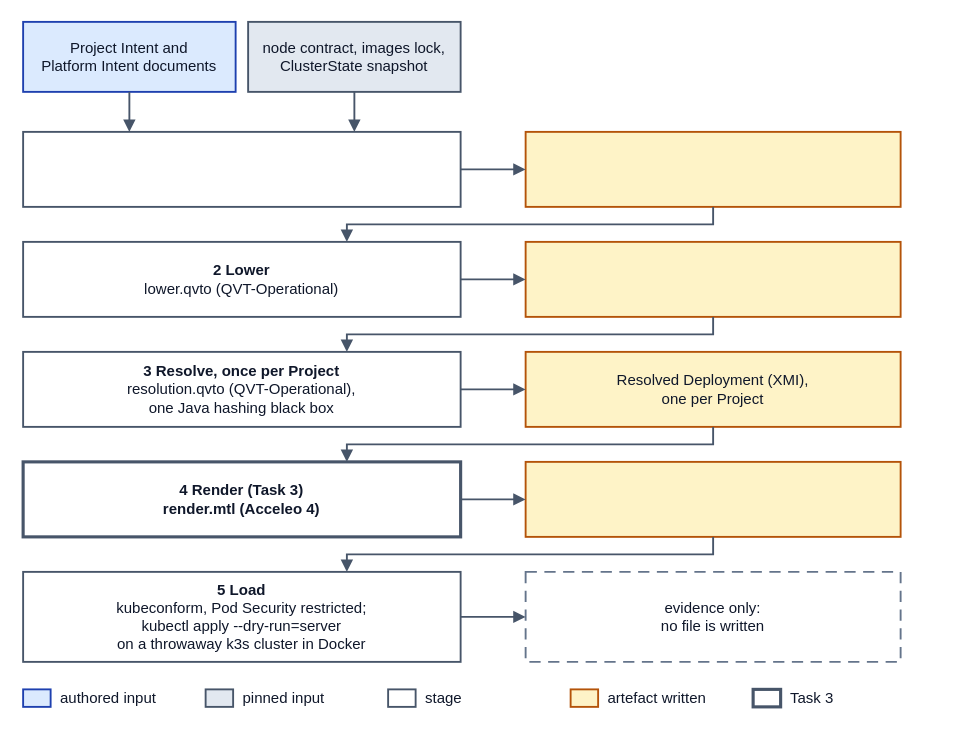
The diagram is 953 pixels wide and 733 high, and some of its shapes have lost their labels. The box of each missing label's shape, as (x1, y1, x2, y2) in pixels:
1 Parse and validate Xtext grammars, Complete OCL: (22, 130, 461, 207)
checked source models, or diagnostics and a stop: (524, 130, 901, 207)
Deliverable Set: YAML and JSON files at their planned paths: (524, 460, 901, 537)
Effective Intent: Shared Intent lowered onto each Process: (524, 240, 901, 317)
